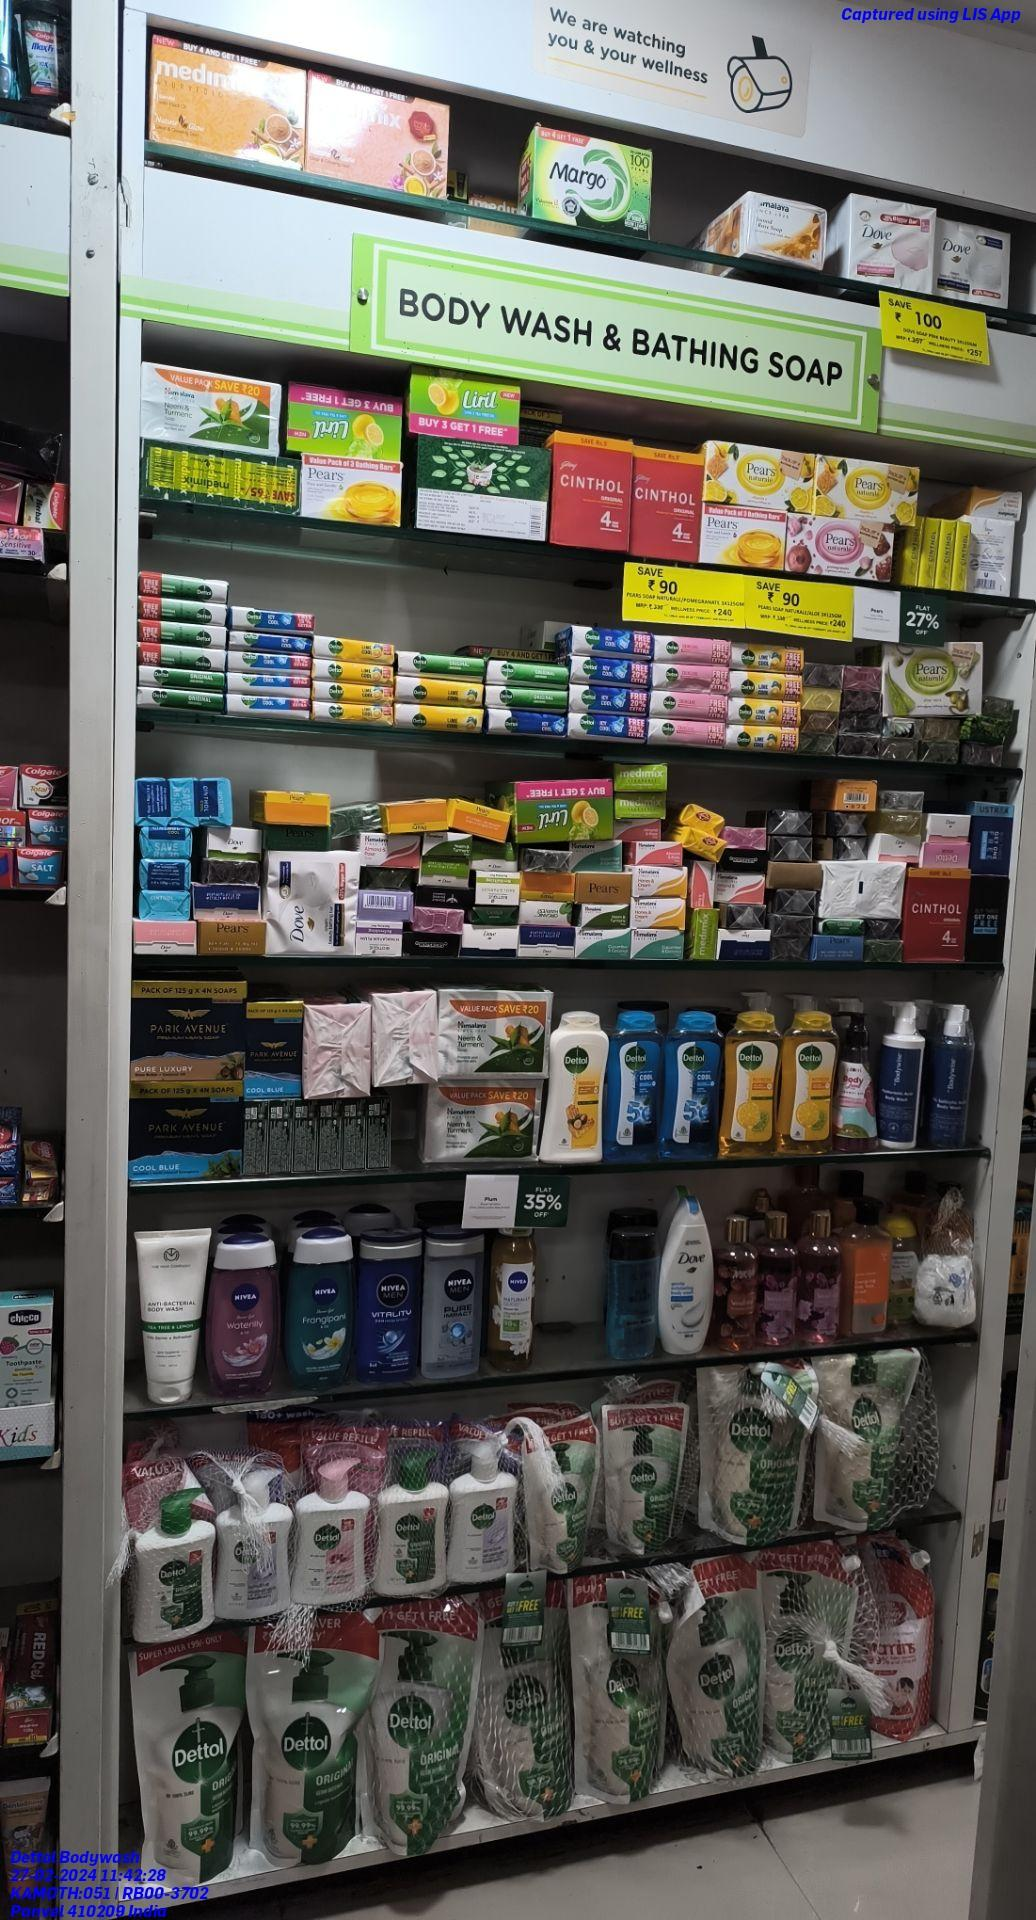Dettol_Bodywash_Cool: (663, 1013, 723, 1155), (611, 1010, 662, 1163)
Dettol_Bodywash_Refresh: (783, 1014, 837, 1158), (730, 1012, 777, 1157)
Dettol_Nourish_Body_Wash_250ML: (550, 1012, 605, 1165)
Dove_Gentle_Exfoliating_Body_Wash_250ML: (660, 1198, 713, 1355)
Nivea_Shower_Gel_Frangipani_and_Oil_250ML: (285, 1230, 351, 1393)
Nivea_Shower_Gel_Waterlily_and_Oil_250ML: (211, 1235, 279, 1399)
